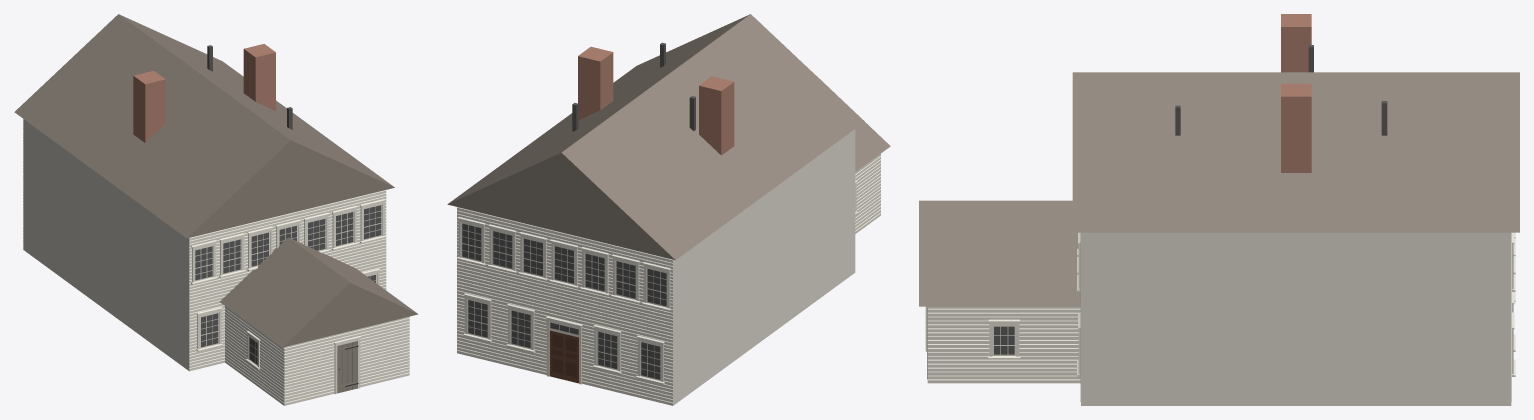
File: recon_1835_core_h3_023__inferred_1835.glb
The picture shows the model from 3 angles, left to right: view 1: azimuth 30°, elevation 25°; view 2: azimuth 150°, elevation 25°; view 3: azimuth 270°, elevation 25°; orthographic projection. The views are drawn at different scales.
Parts seen in each view (by area): view 1: recon_1835_core_h3_023__inferred_1835; view 2: recon_1835_core_h3_023__inferred_1835; view 3: recon_1835_core_h3_023__inferred_1835.
Part boxes in pixels (x1,y1,x2,y2): recon_1835_core_h3_023__inferred_1835: (14, 14, 418, 405); recon_1835_core_h3_023__inferred_1835: (447, 14, 890, 405); recon_1835_core_h3_023__inferred_1835: (919, 14, 1519, 405).
Bounding box in the file's own units: 9.14 × 9.32 × 17.61.
